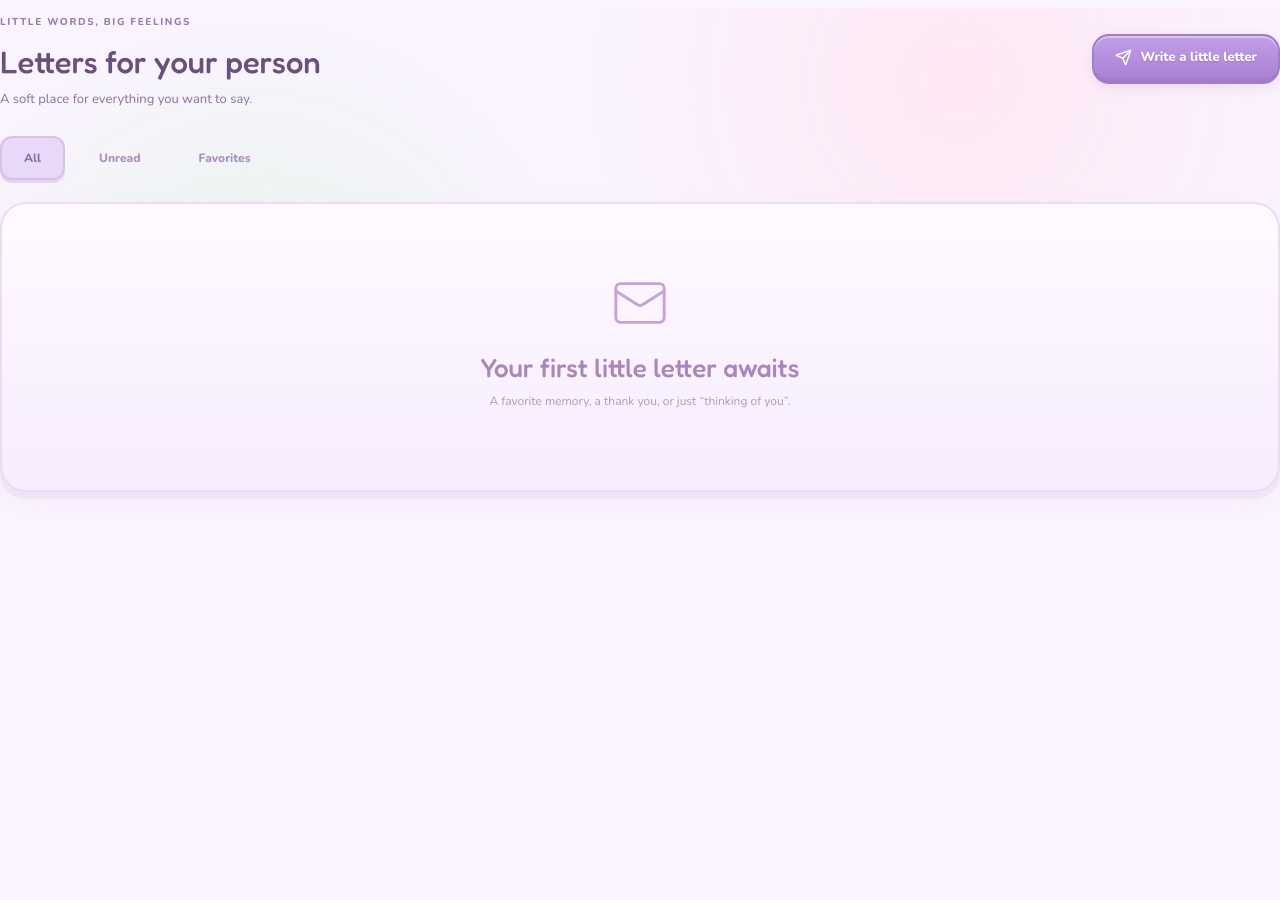
Test: little rooms › offers compose and private empty state
This screenshot has width=1280, height=900.
Step 1. Click the button "Write a little letter" → point(1186, 59), box [1092,34,1279,84]
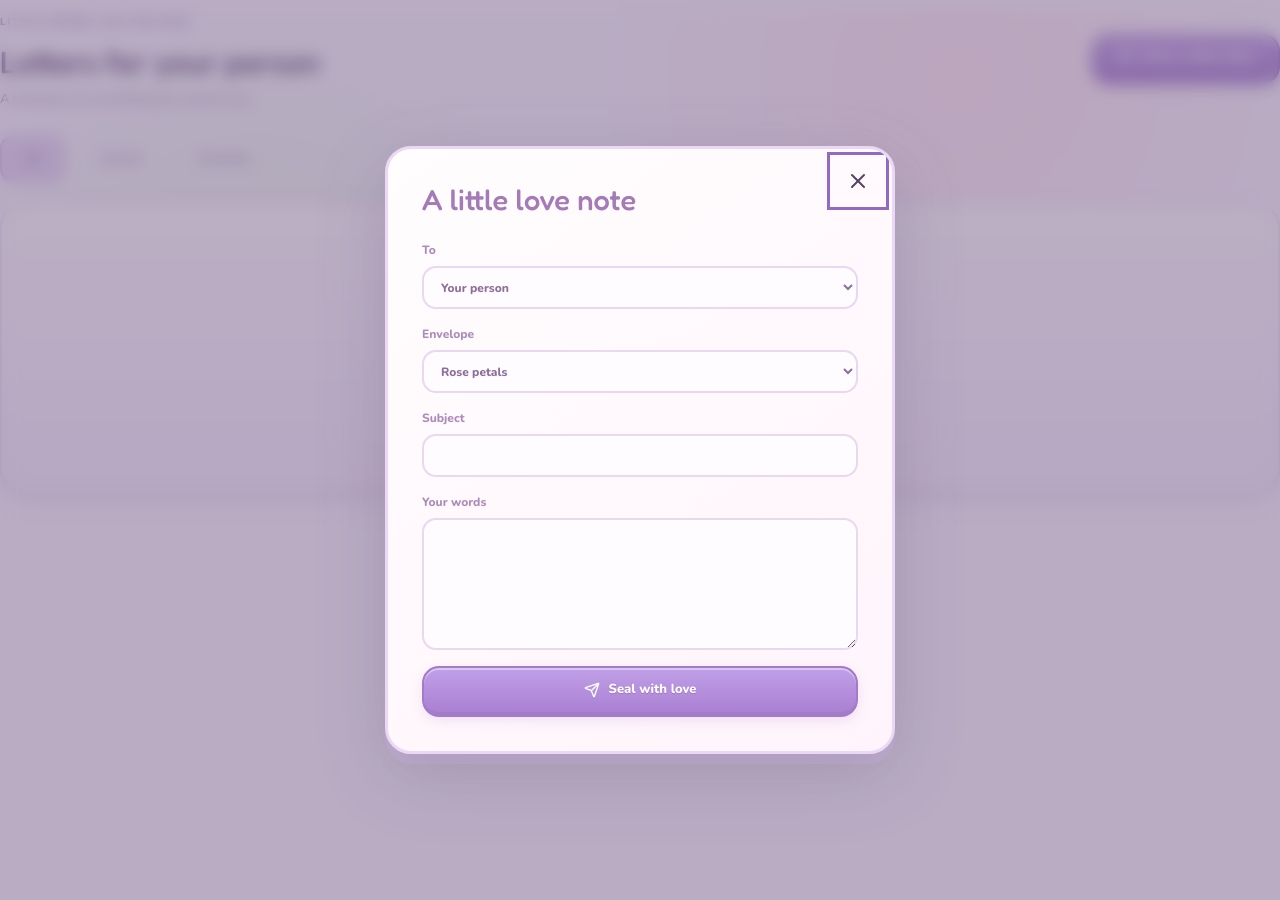
Result: the dialog is shown at [385,146,895,754]
Result: the text box labelled "Your words" is shown at [422,518,858,650]
